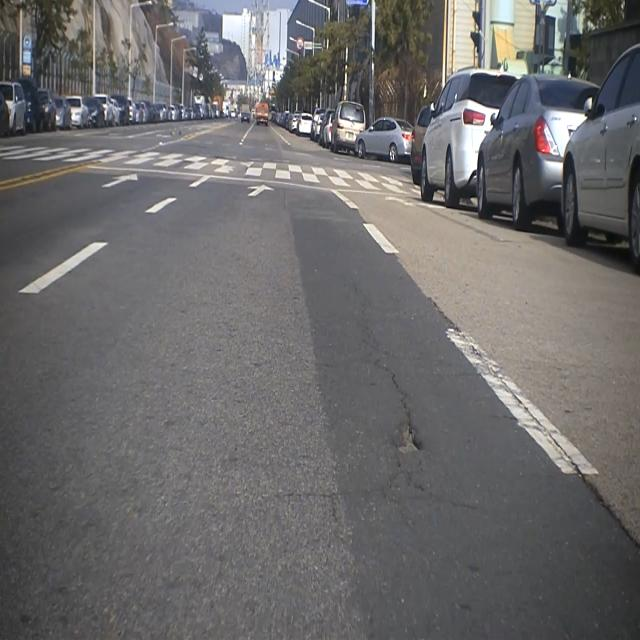Pothole: (379, 365, 431, 466)
